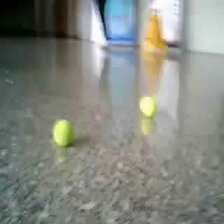tennis: (52, 120, 77, 147), (140, 96, 157, 118)
